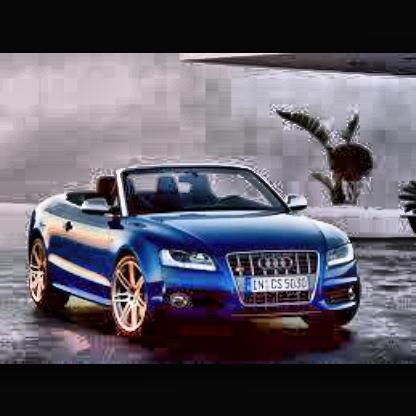Audi S5 Convertible 2012: (28, 167, 365, 334)
